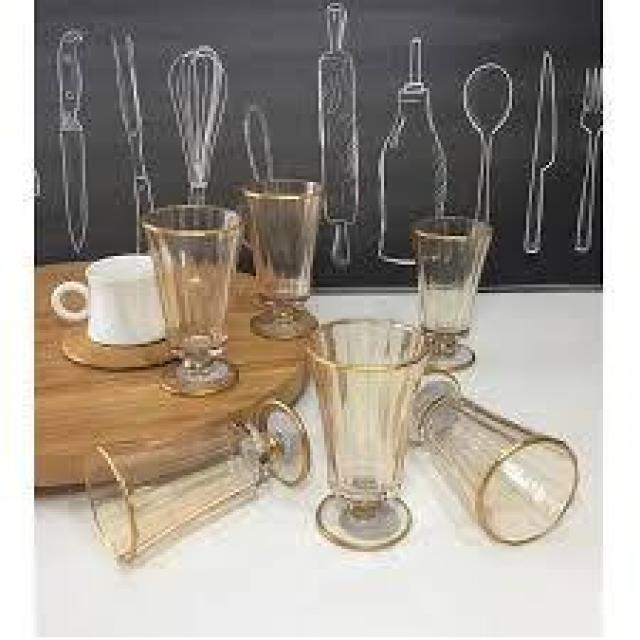non-organic waste: (87, 396, 314, 564), (144, 199, 240, 398)
